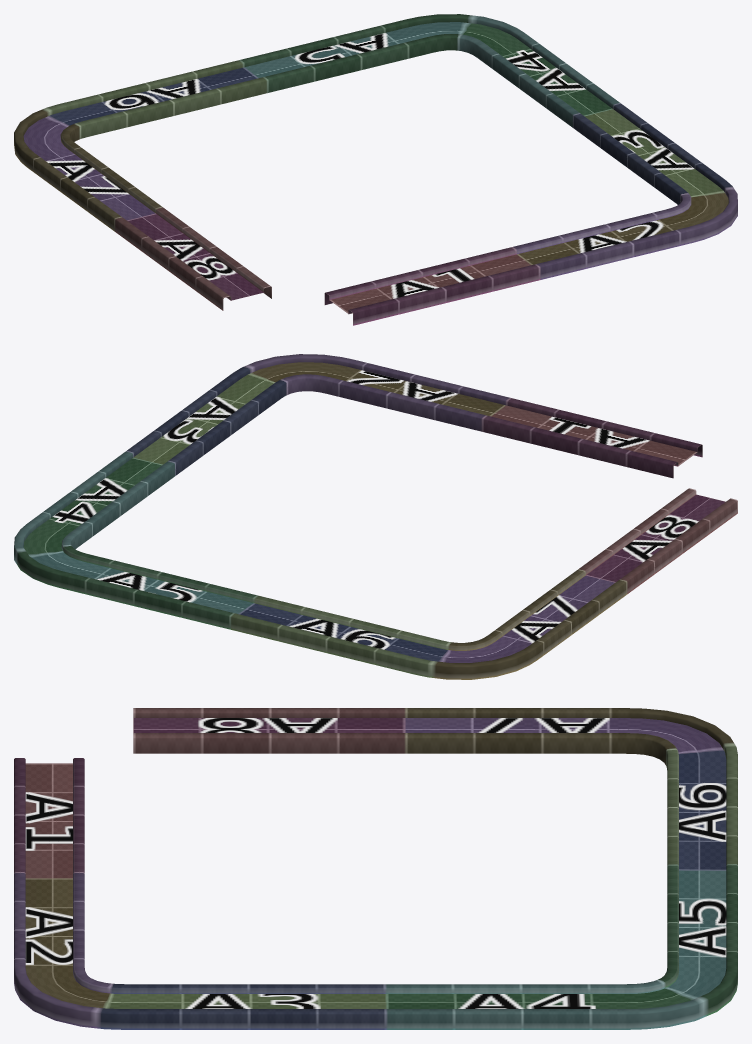
File: track.glb
3 views of the same model, one above another, from view 1: azimuth 30°, elevation 25°; view 2: azimuth 150°, elevation 25°; view 3: azimuth 270°, elevation 25° (orthographic). The views are drawn at different scales.
Visible parts, largest first — view 1: Static, Moving; view 2: Static, Moving; view 3: Static, Moving.
Part boxes in pixels (bbox=[...]): Static: bbox=[14, 14, 737, 325]; Moving: bbox=[23, 22, 728, 313]; Static: bbox=[14, 354, 737, 679]; Moving: bbox=[23, 362, 725, 662]; Static: bbox=[14, 708, 737, 1029]; Moving: bbox=[25, 718, 726, 1008].
Size of the model in its own units: 17.16 by 0.4282 by 17.16.
1 material, 1 textured.
